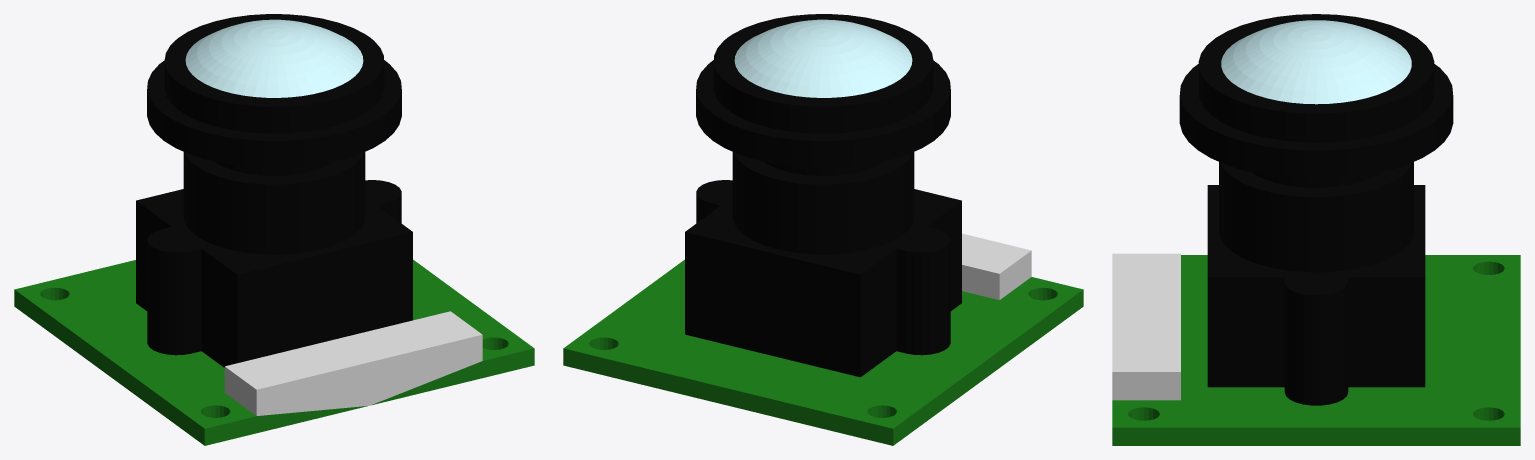
File: picam.dae
The picture shows the model from 3 angles, left to right: view 1: azimuth 30°, elevation 25°; view 2: azimuth 150°, elevation 25°; view 3: azimuth 270°, elevation 25°; orthographic projection. The views are drawn at different scales.
Parts seen in each view (by area): view 1: Picam; view 2: Picam; view 3: Picam.
Part boxes in pixels (x1,y1,x2,y2): Picam: [14, 14, 534, 445]; Picam: [563, 14, 1083, 445]; Picam: [1112, 14, 1520, 445].
Size of the model in its own units: 32.1 by 32.1 by 28.15.
